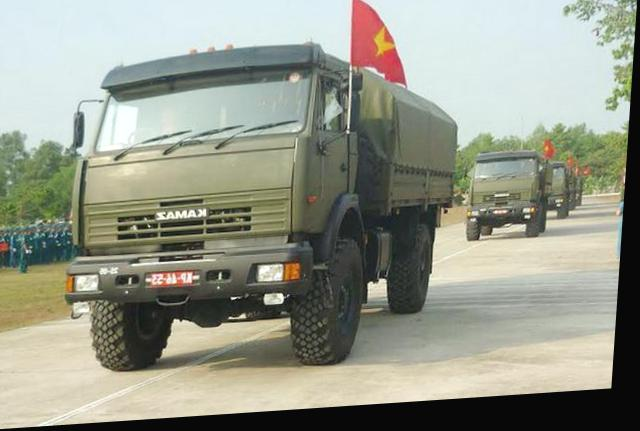License_Plate: (147, 268, 196, 291)
